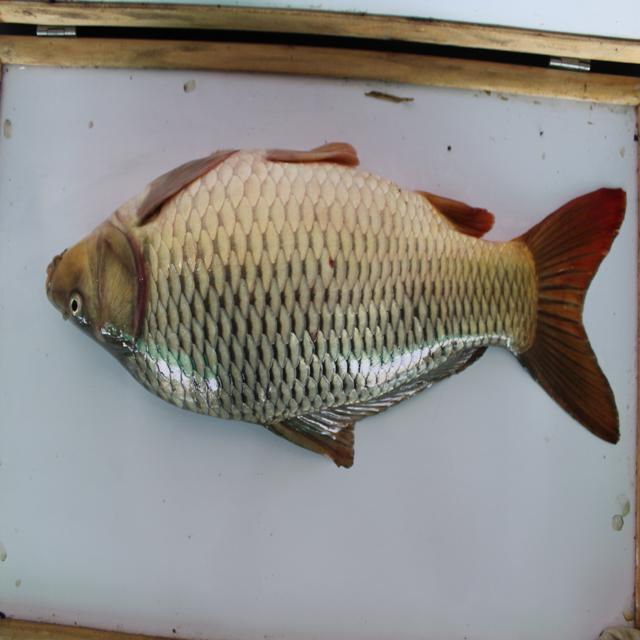CommonCarp: (48, 137, 623, 466)
